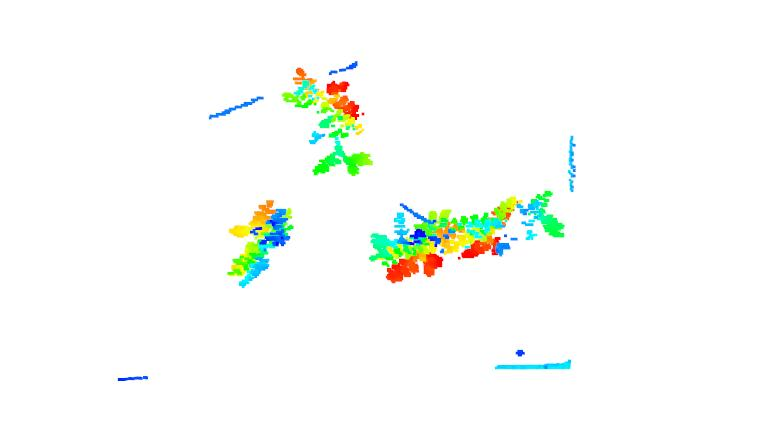chickpea: (281, 69, 379, 179), (220, 201, 298, 296), (358, 215, 444, 297), (434, 195, 522, 274), (511, 182, 568, 245)
